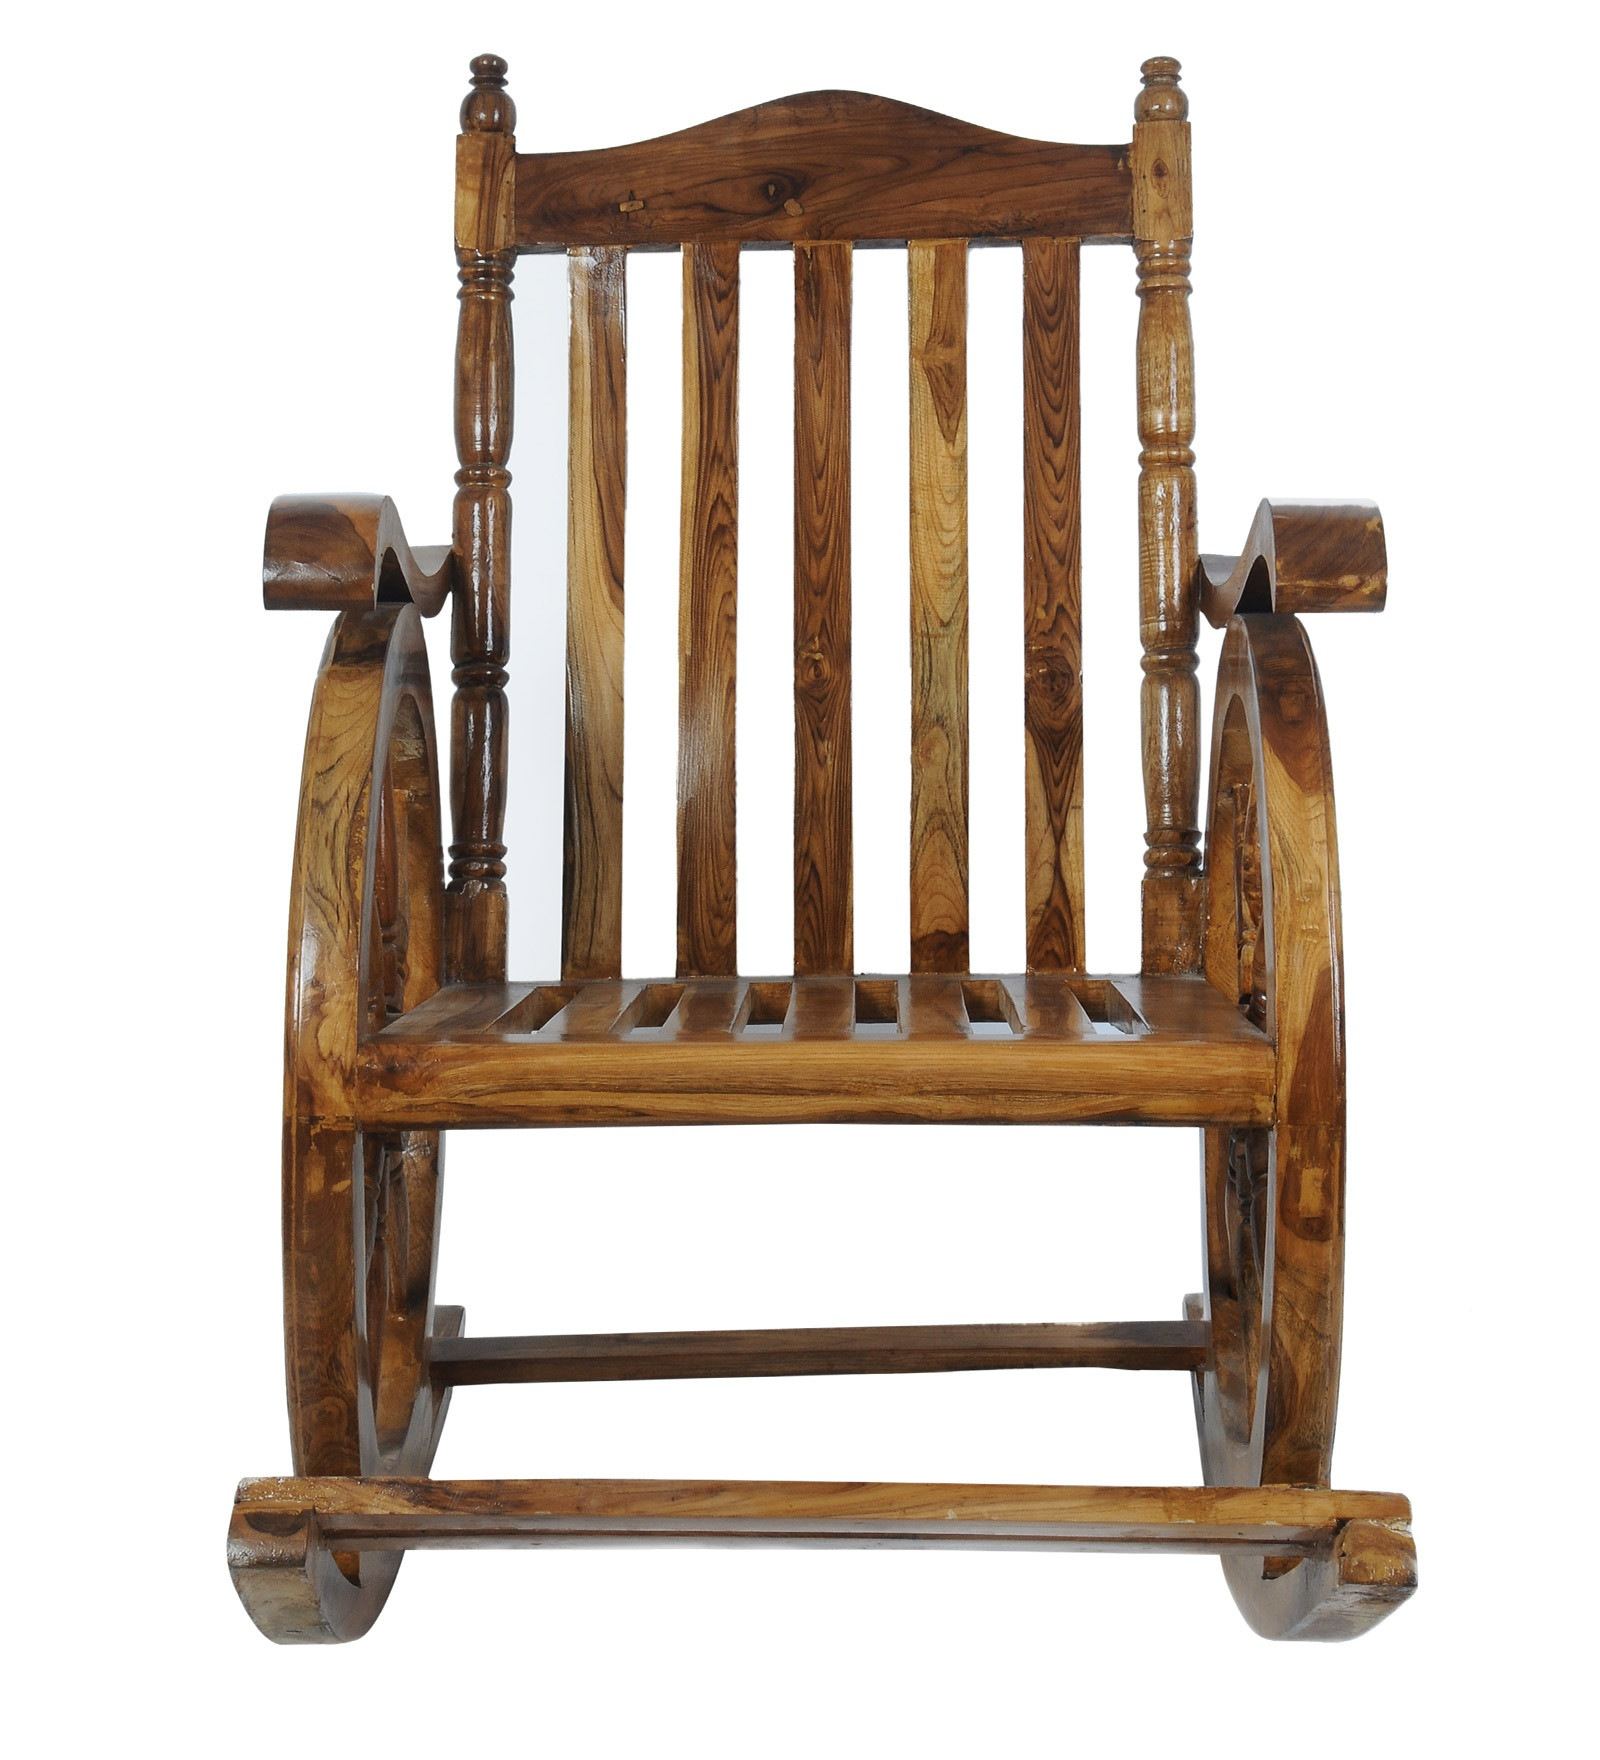Chariot Teak Wood Rocking Chair in Natural Finish by Furniease: (162, 48, 1438, 1702)
